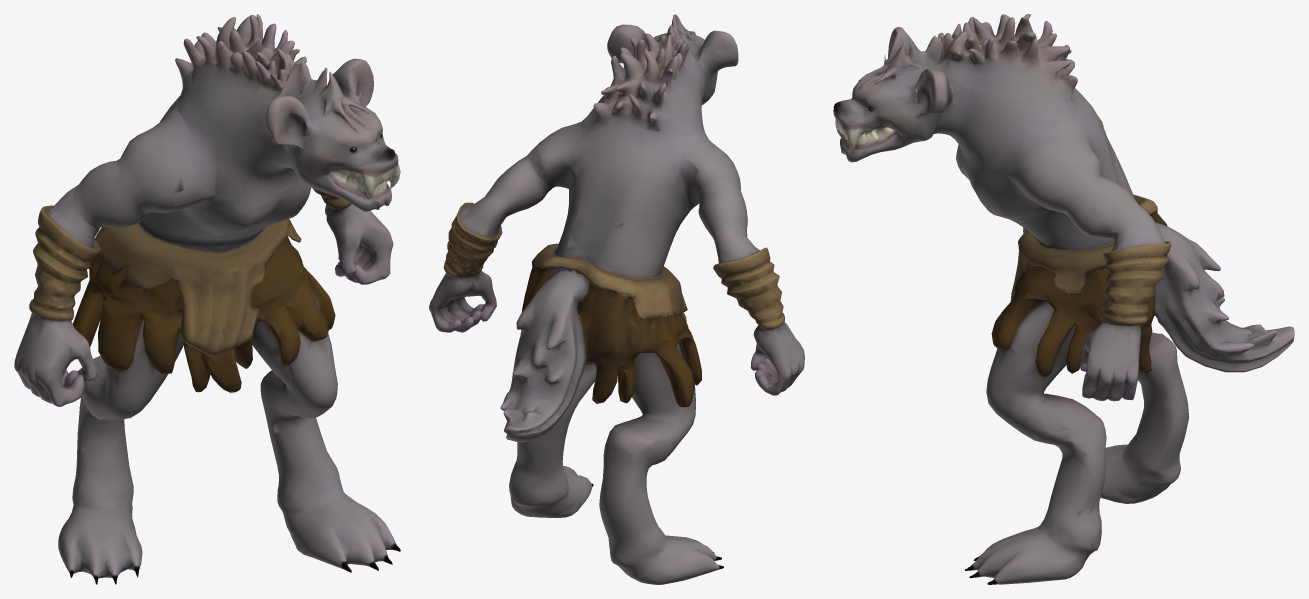
File: MZ4250 - Gnoll Skirmisher.glb
The picture shows the model from 3 angles, left to right: view 1: azimuth 30°, elevation 25°; view 2: azimuth 150°, elevation 25°; view 3: azimuth 270°, elevation 25°; orthographic projection. The views are drawn at different scales.
Parts seen in each view (by area): view 1: gnoll_skirmisher_low.001; view 2: gnoll_skirmisher_low.001; view 3: gnoll_skirmisher_low.001.
Part boxes in pixels (x1,y1,x2,y2): gnoll_skirmisher_low.001: (14,14,400,584); gnoll_skirmisher_low.001: (429,14,804,584); gnoll_skirmisher_low.001: (833,14,1294,584).
Size of the model in its own units: 1.47 by 2.01 by 1.64.
1 material, 1 textured.
